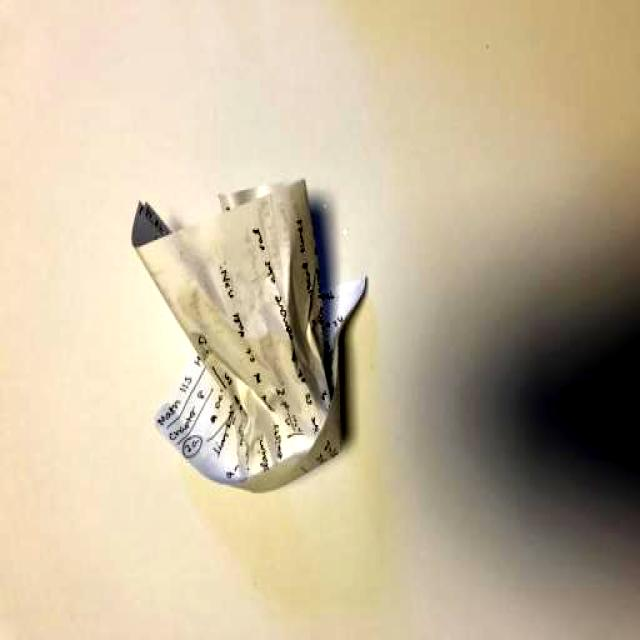paper: (129, 183, 368, 494)
